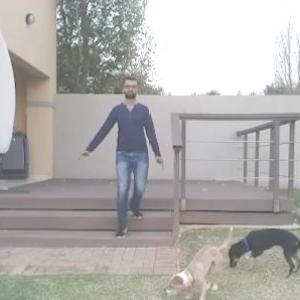land: (90, 82, 168, 228)
